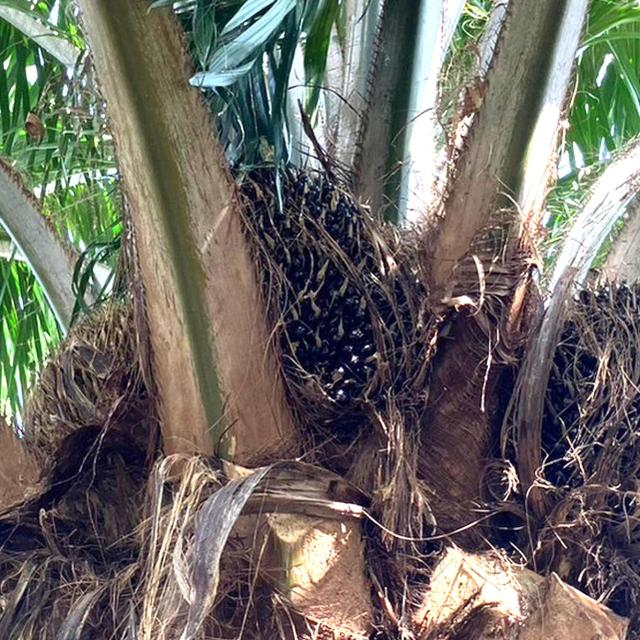unripe: (228, 162, 412, 449)
